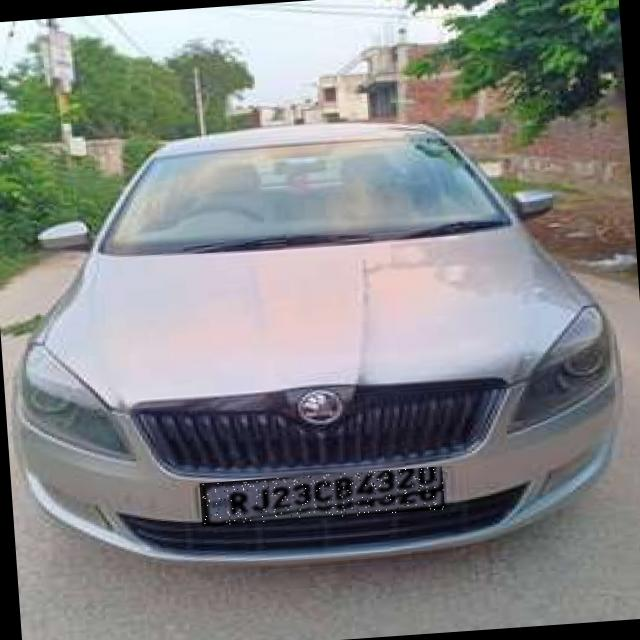Plate: (201, 467, 446, 527)
